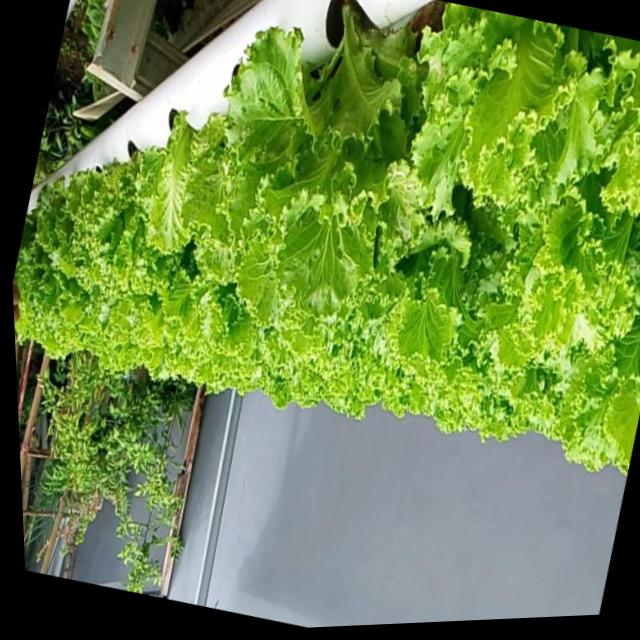Mature: (12, 0, 640, 468), (192, 0, 436, 312), (64, 140, 180, 296)
